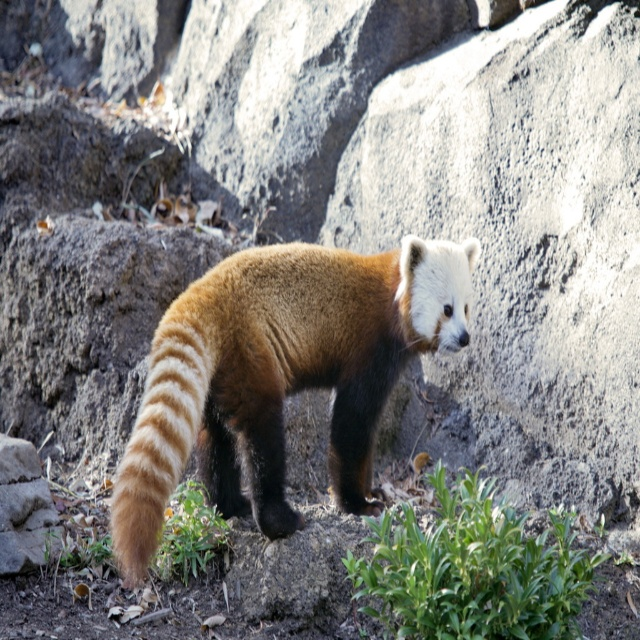Red panda: (105, 234, 482, 596)
